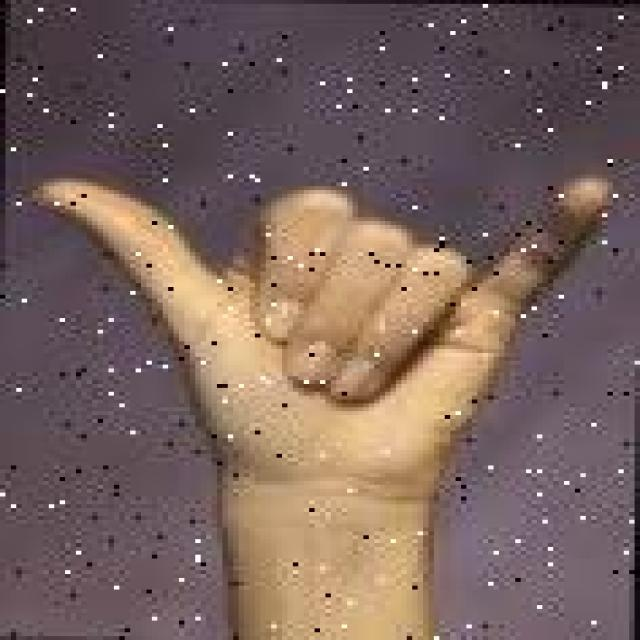Y: (14, 153, 626, 491)
